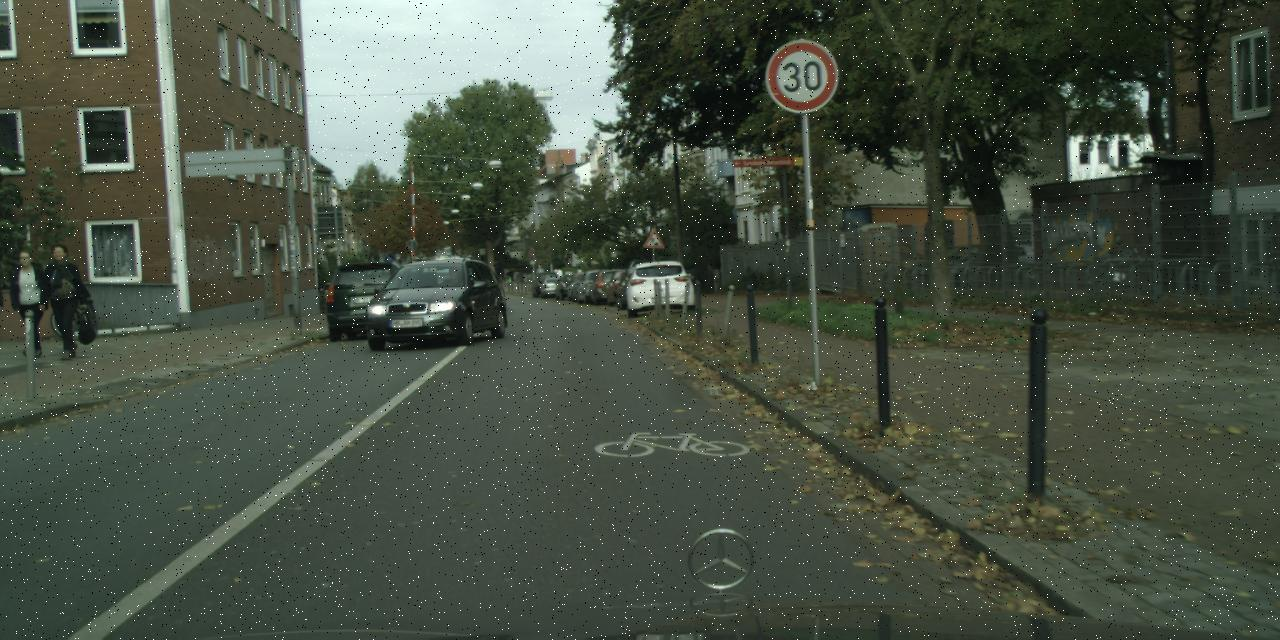ped: (41, 243, 88, 358), (7, 249, 51, 357)
